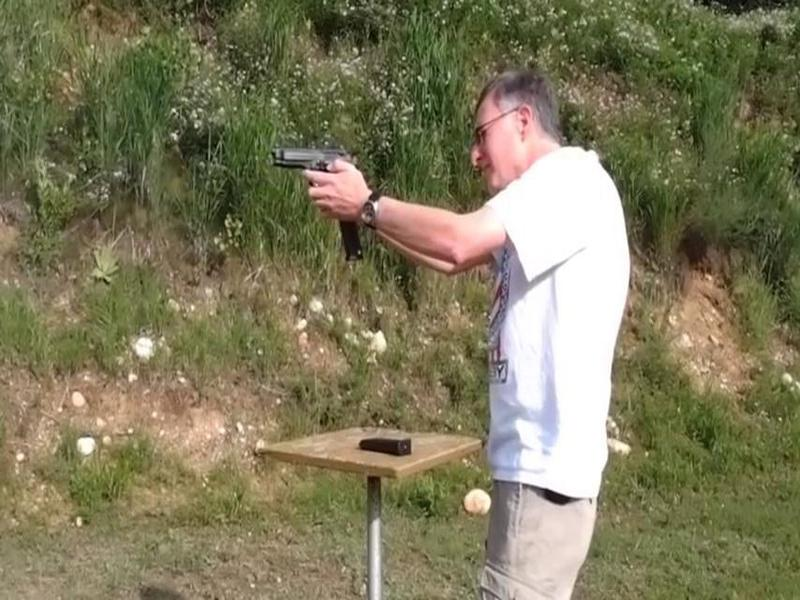Pistola: (265, 124, 386, 220)
